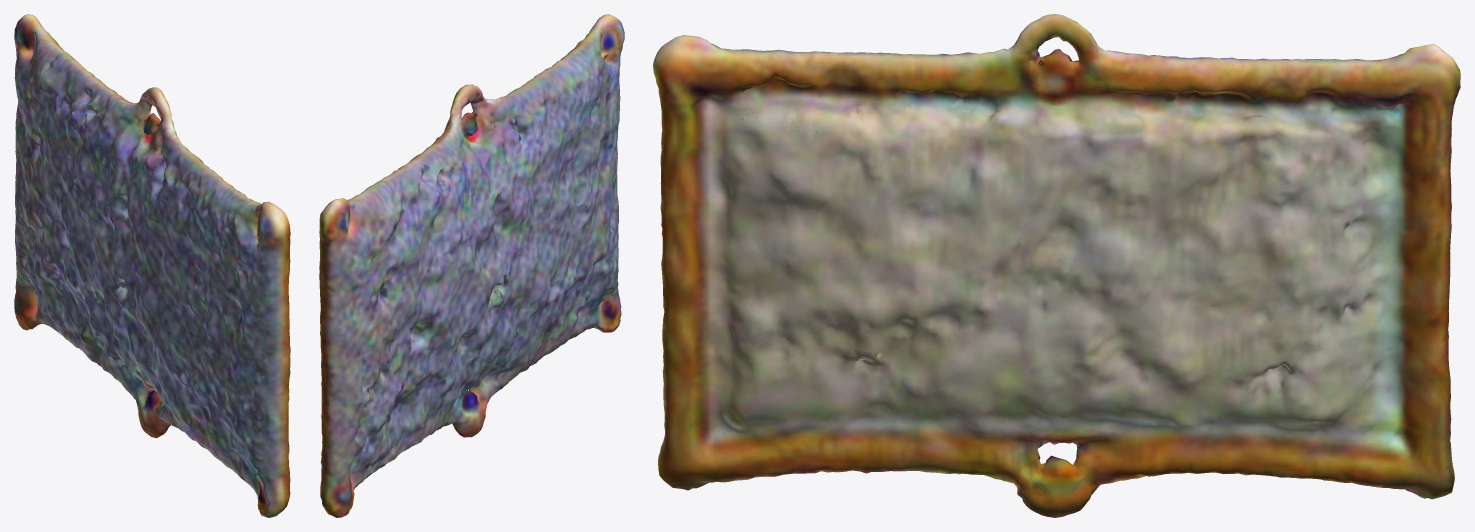
File: Notice_board.glb
3 views of the same model, side by side, from view 1: azimuth 30°, elevation 25°; view 2: azimuth 150°, elevation 25°; view 3: azimuth 270°, elevation 25° (orthographic). The views are drawn at different scales.
Parts seen in each view (by area): view 1: Mesh1; view 2: Mesh1; view 3: Mesh1.
Boxes of the visible parts, <box> form: Mesh1: <box>14,14,290,517</box>; Mesh1: <box>319,14,624,517</box>; Mesh1: <box>653,14,1460,517</box>.
Size of the model in its own units: 0.1677 by 0.8293 by 1.2.
1 material, 1 textured.
